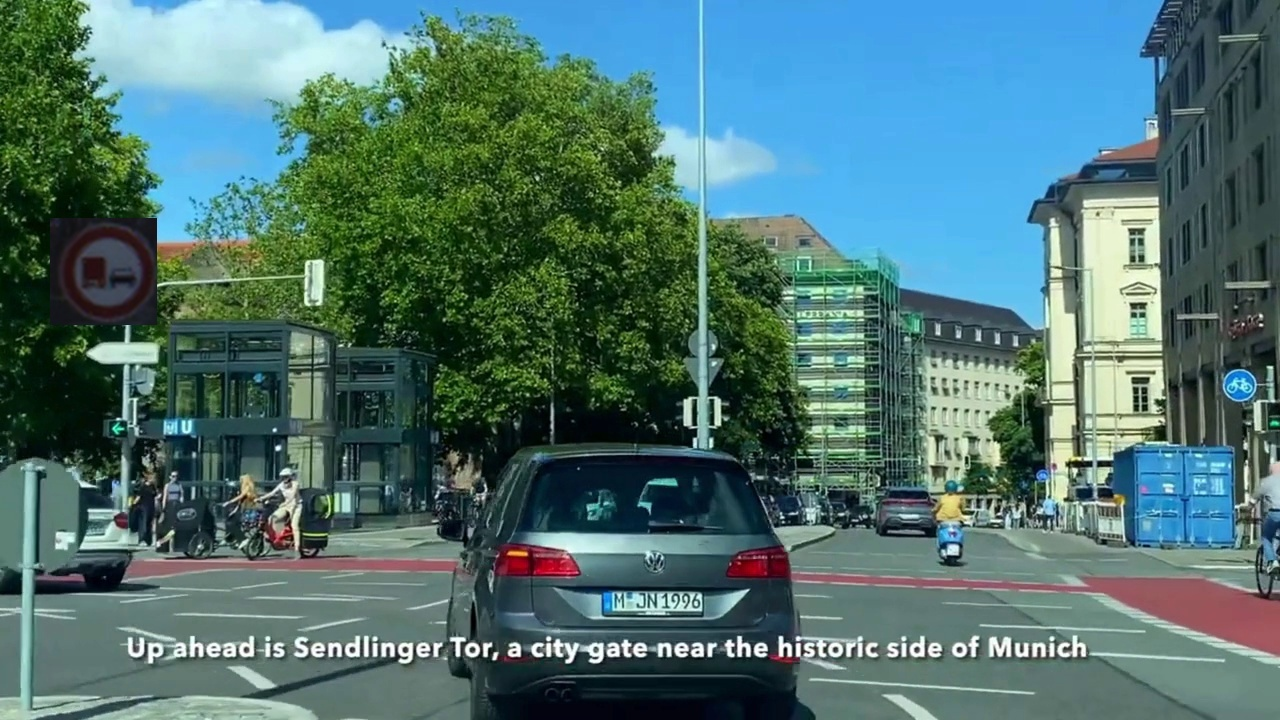No pass >3.5t: (50, 218, 157, 325)
